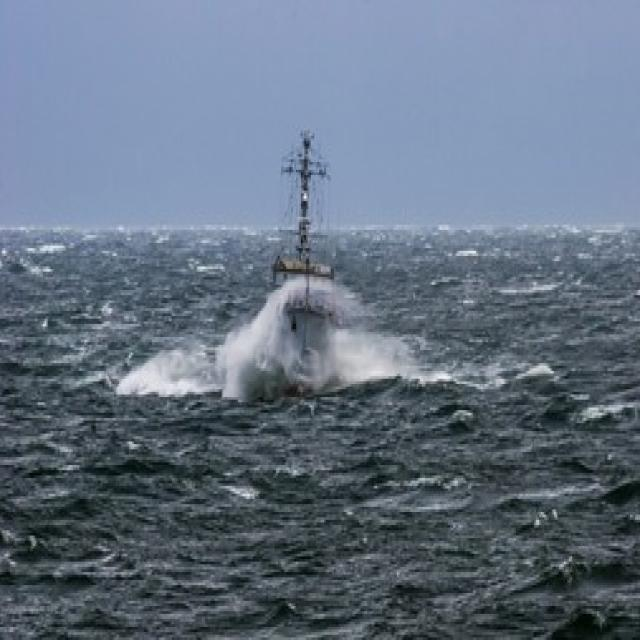fishing boat: (238, 134, 364, 396)
